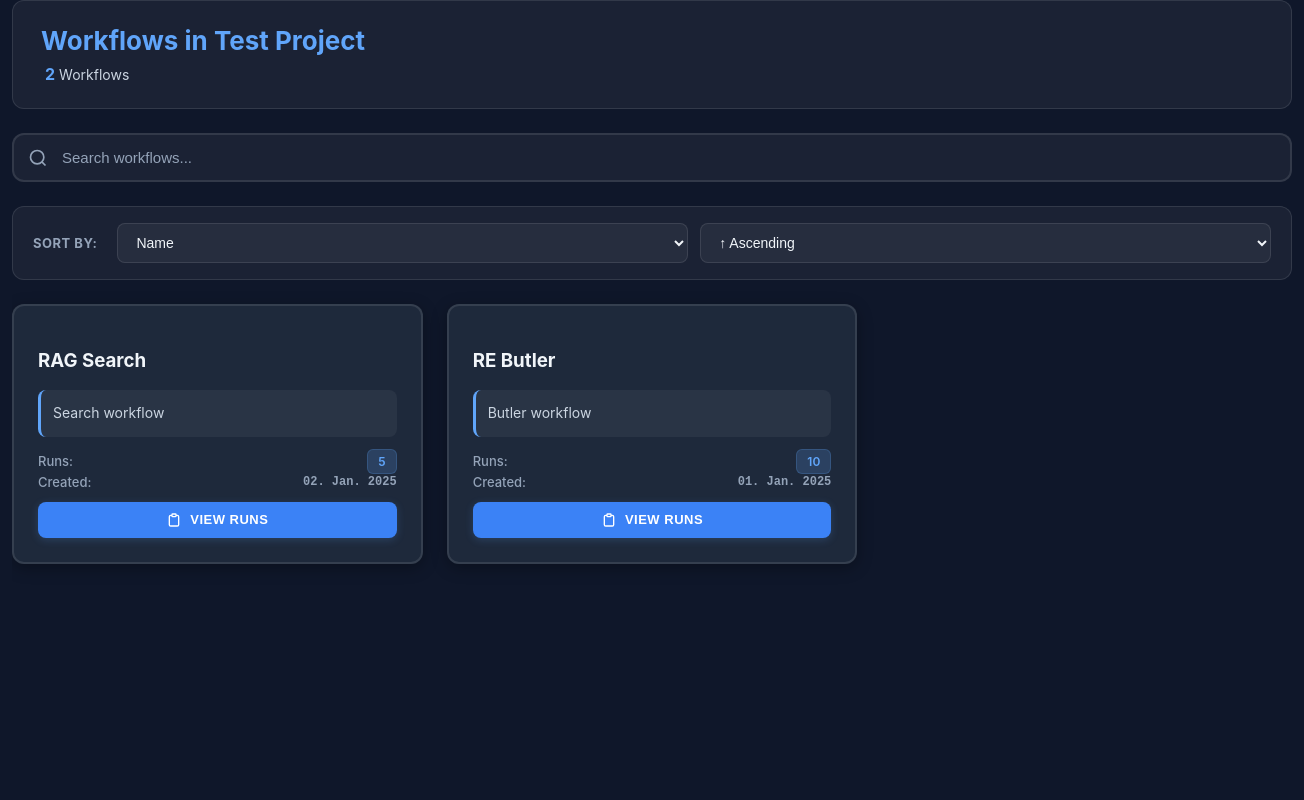
Test case: WorkflowsOverview › should search in workflow descriptions
The image size is (1304, 800).
Type "Search workflow" into the field with placeholder "Search workflows..." at (652, 158), box [12,133,1292,182]
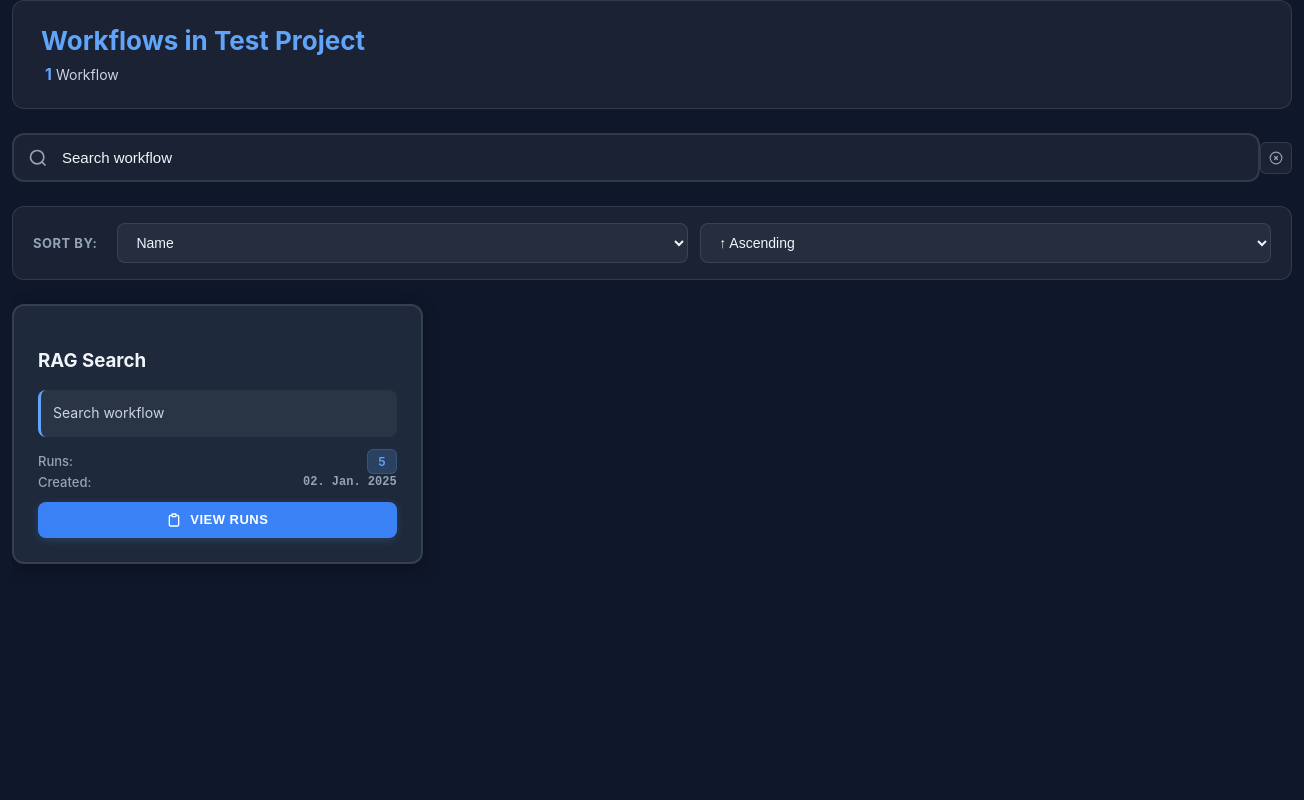
Check: the heading "RAG Search" is shown, box [38,349,146,372]
Check: the heading "RE Butler" is gone
